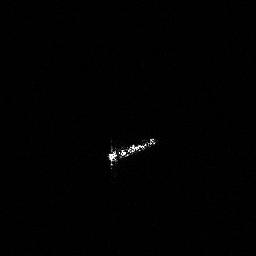ship: (102, 133, 160, 172)
